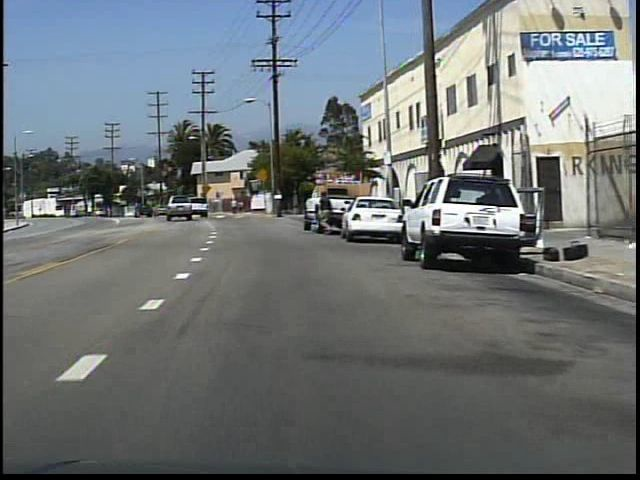person: (315, 185, 337, 239), (230, 197, 239, 218), (237, 198, 246, 215)
